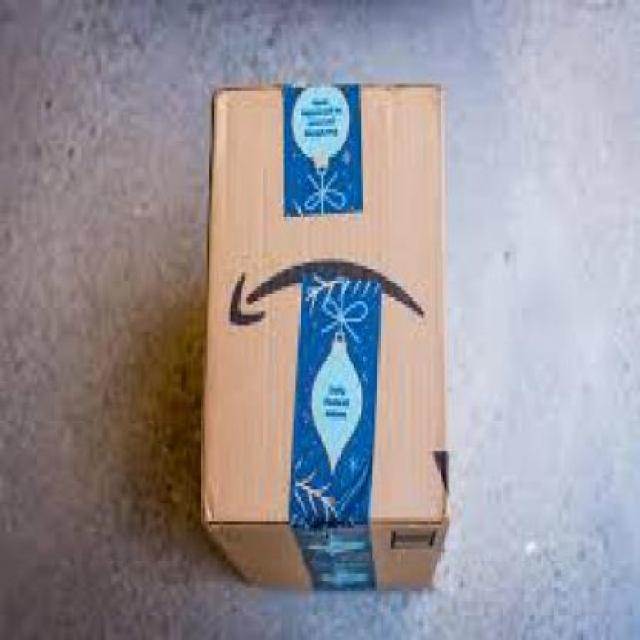cardboxes: (198, 75, 456, 602)
